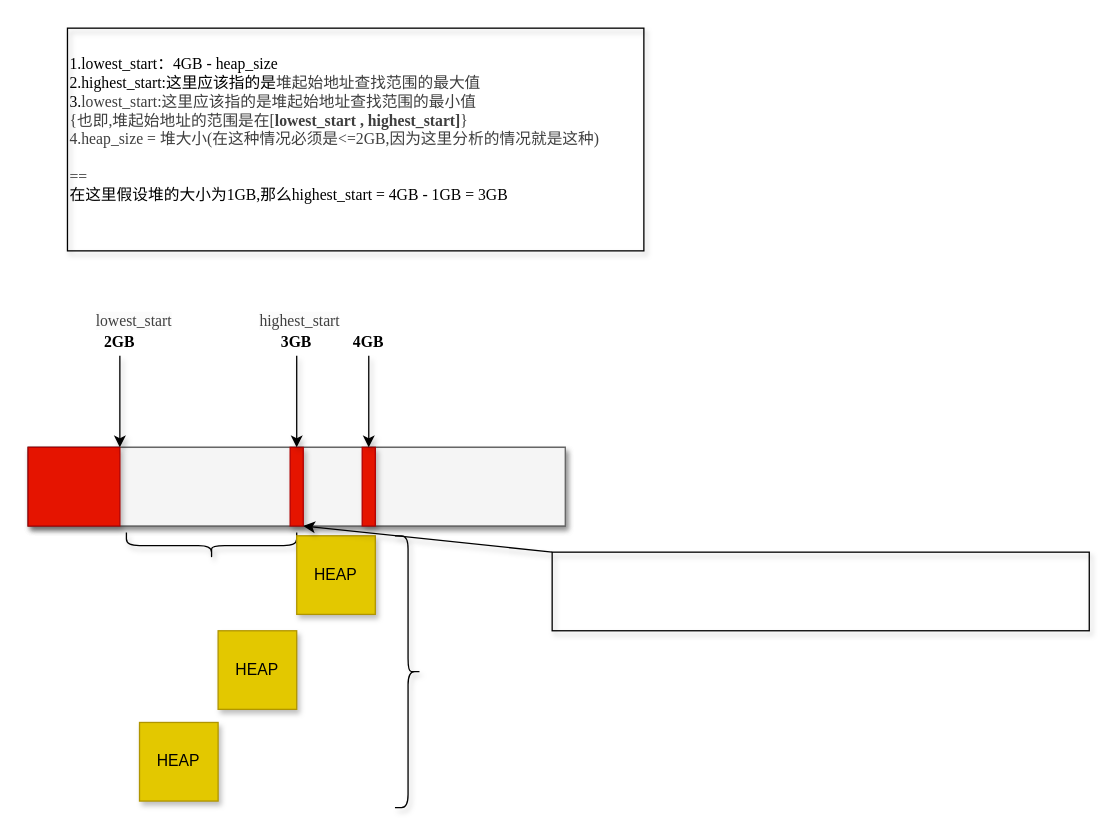
Image size: 1120x840. Some labels were removed from this diagram. Here are the shapes that lost their labels. From the top down, the centre of each, then its label:
At (x=212, y=547): "堆起始地址的范围".
At (x=821, y=593): "从这个位置开始找, 也即以3GB为起始位置,看下 3GB -> 4GB，能否分配成功 如果失败,继续向后找堆的起始位置「当然尝试也是有次数限制的」".
